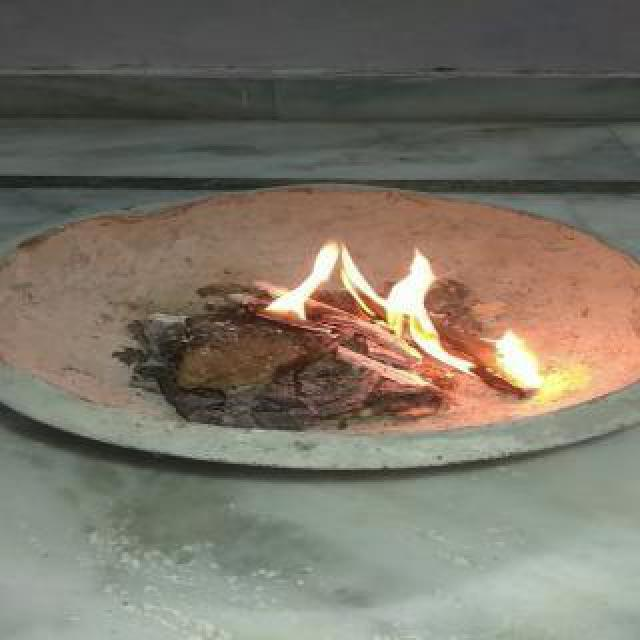fire: (265, 162, 567, 403)
